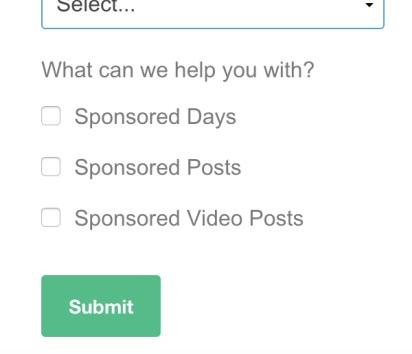button: (42, 274, 162, 339)
checkbox: (42, 104, 68, 129), (39, 203, 63, 229), (39, 155, 63, 179)
checkbox_with_label: (34, 201, 305, 232), (37, 100, 234, 132), (33, 153, 243, 183)
